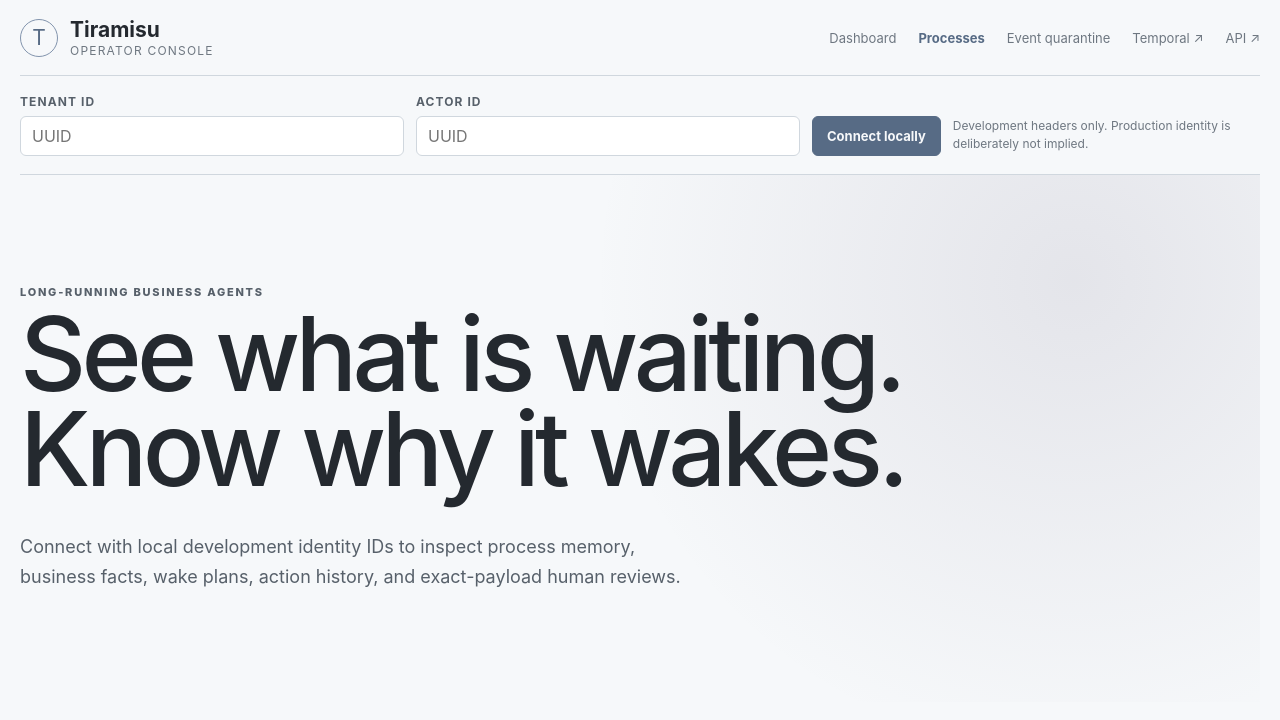
Test case: operator console › keeps journey inspection available without outbox permission
Type "tenant-id" into the field with test id "tenant-id".
click(212, 136); type("tenant-id")  # box left=20, top=116, right=404, bottom=156
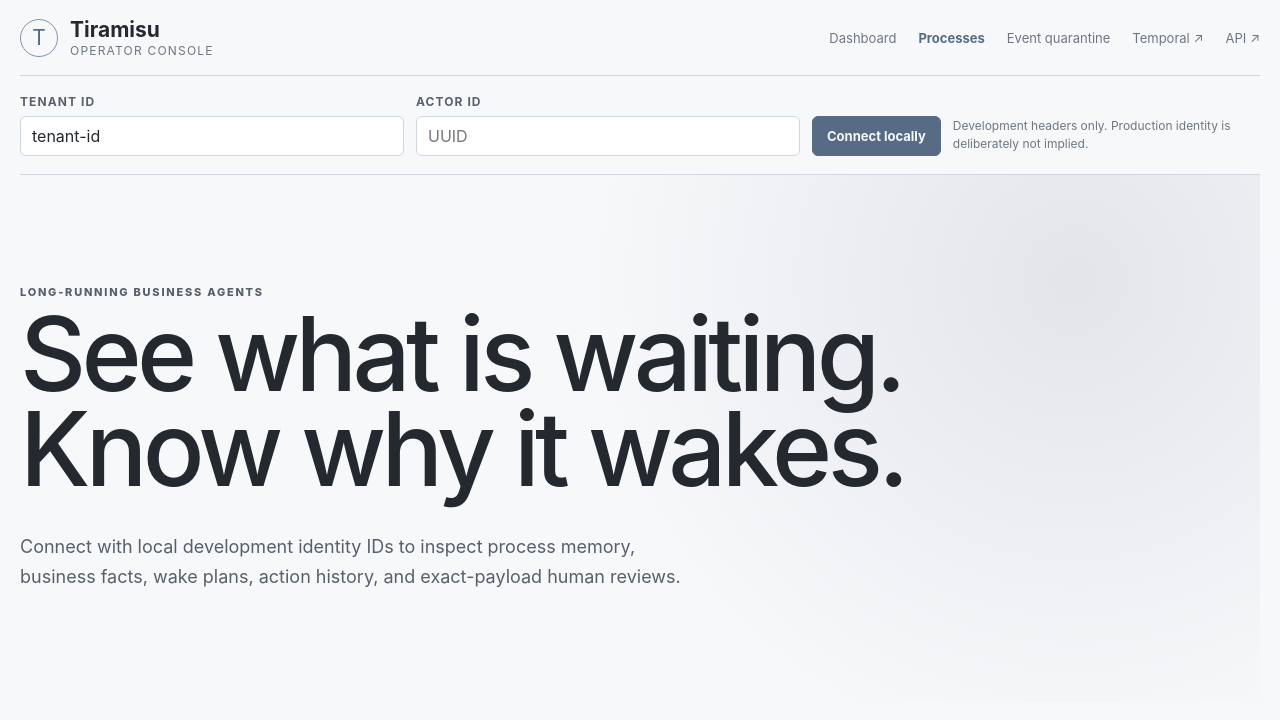
Type "actor-id" into the field with test id "actor-id".
click(608, 136); type("actor-id")  # box left=416, top=116, right=800, bottom=156
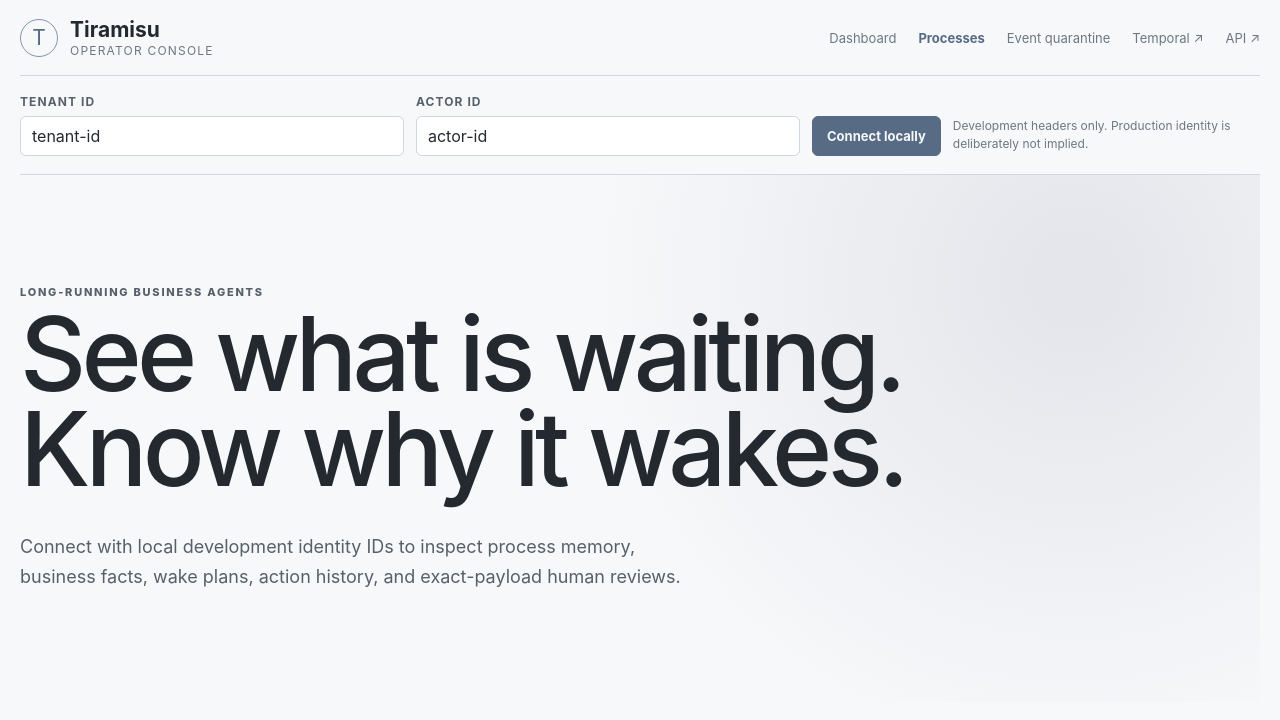
Click the button with test id "connect".
click(876, 136)  # box left=812, top=116, right=941, bottom=156
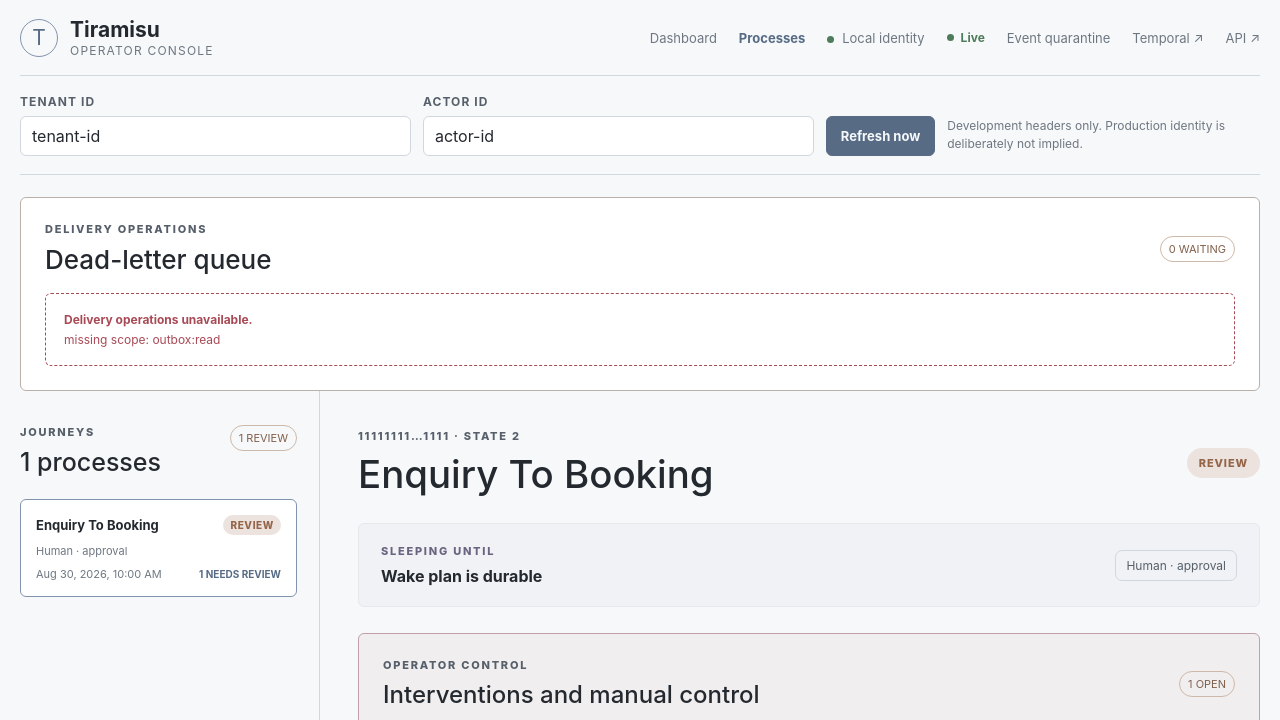
Expected: the element with test id "process-detail" shows "enquiry to booking", left=358, top=451, right=714, bottom=497
Expected: the element with test id "delivery-operations" shows "Delivery operations unavailable", left=64, top=312, right=253, bottom=327
Expected: the text "missing scope: outbox:read" is shown, left=64, top=332, right=220, bottom=347
